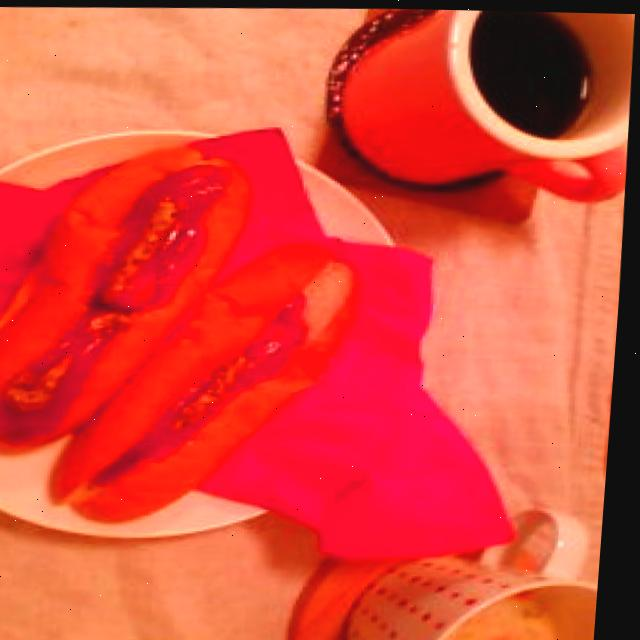汉堡快餐: (35, 212, 405, 533), (0, 137, 267, 461)
